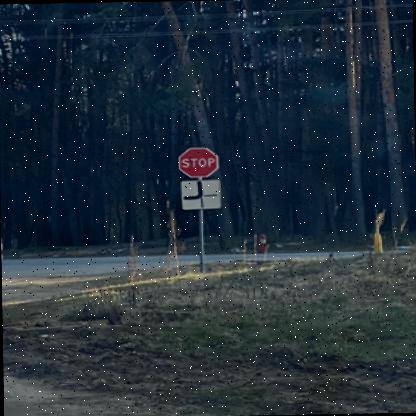stop: (176, 146, 216, 176)
